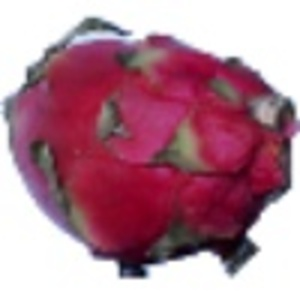pitaia: (1, 15, 300, 281)
